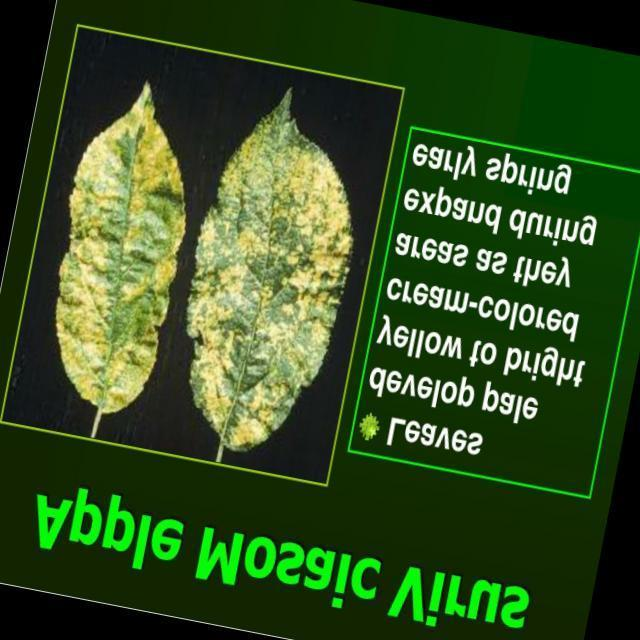Mosaic Virus: (170, 98, 384, 458), (42, 79, 210, 416)
